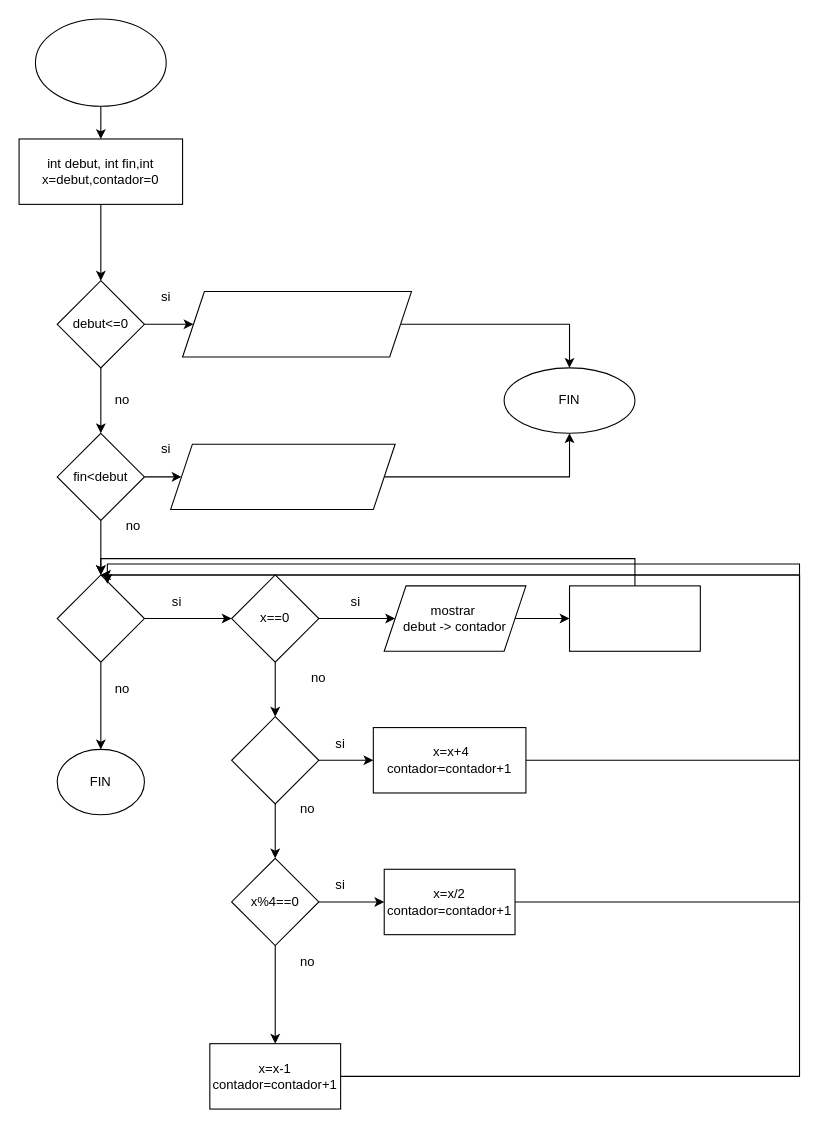
The diagram is 827 pixels wide and 1128 high, and some of its shapes have lost their labels. The centre of each missing label's shape, as x and y in pixels:
"contador=0 debut=debut+1 x=debut" goes at point (634, 618).
"debut<=fin" goes at point (100, 618).
"INICIO 18_19" goes at point (100, 62).
"mostrar El numero de fin no debe de ser menor al inicial" goes at point (282, 476).
"mostrar El numero debe de ser positivo y mayor a zero" goes at point (296, 323).
"x % 3 == 0" goes at point (275, 760).
